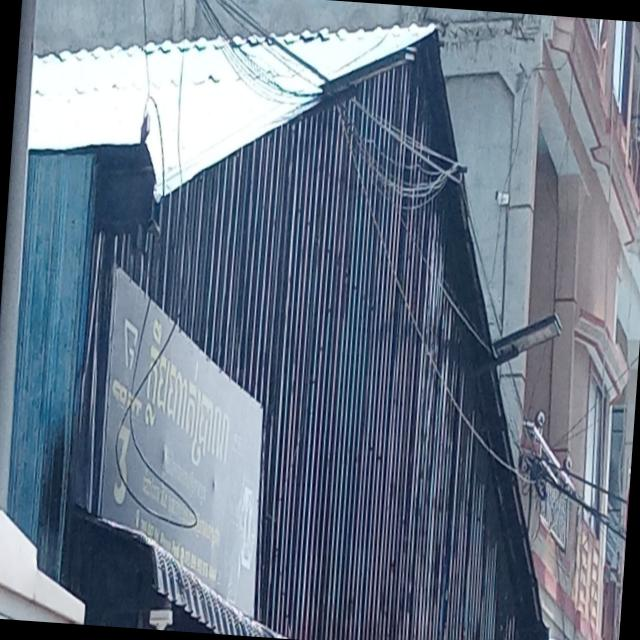Yolov11kh: (137, 309, 238, 492)
